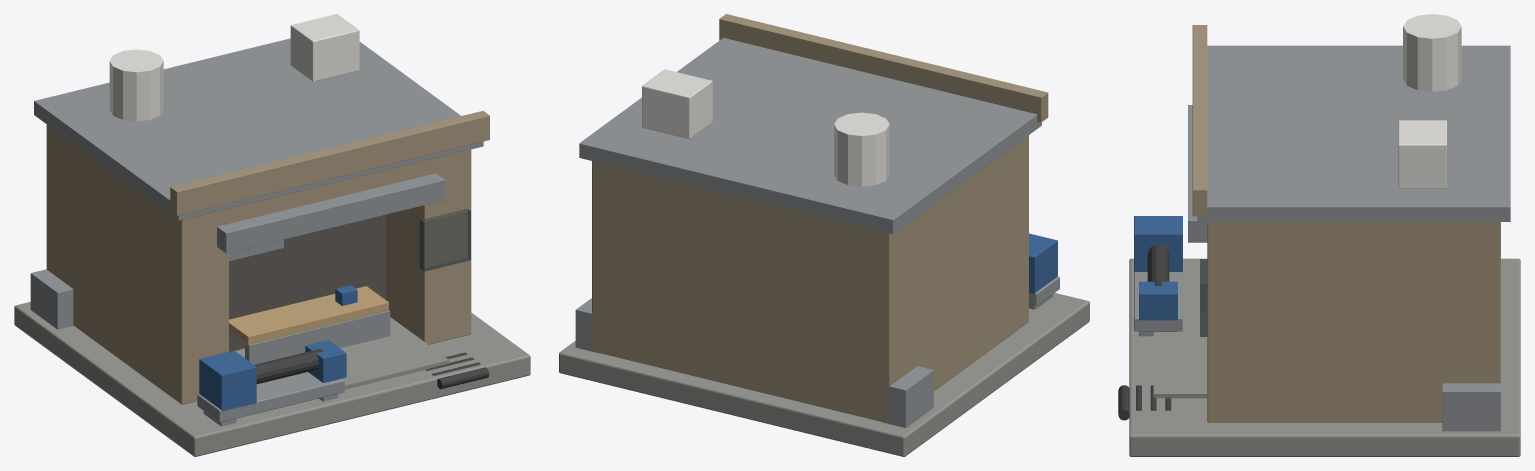
Rendered from torna.glb.
3 views of the same model, side by side, from view 1: azimuth 30°, elevation 25°; view 2: azimuth 150°, elevation 25°; view 3: azimuth 270°, elevation 25° (orthographic). The views are drawn at different scales.
Visible parts, largest first — view 1: P; view 2: P; view 3: P.
Part boxes in pixels (bbox=[...]): P: bbox=[14, 14, 530, 456]; P: bbox=[559, 14, 1089, 456]; P: bbox=[1118, 14, 1520, 456].
Bounding box in the file's own units: 1 × 0.7791 × 0.9558.
